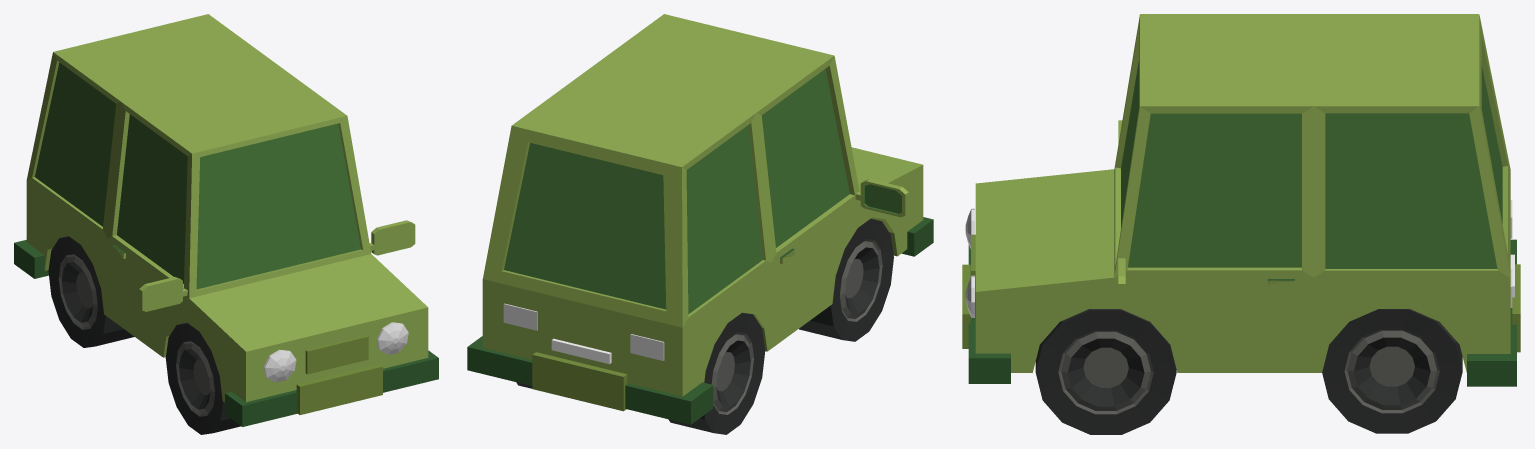
Rendered from mobil hijau.fbx.
The picture shows the model from 3 angles, left to right: view 1: azimuth 30°, elevation 25°; view 2: azimuth 150°, elevation 25°; view 3: azimuth 270°, elevation 25°; orthographic projection. The views are drawn at different scales.
Visible parts, largest first — view 1: lampu depan.001; view 2: lampu depan.001; view 3: lampu depan.001.
Part boxes in pixels (x1=…): lampu depan.001: x1=14, y1=14, x2=438, y2=434; lampu depan.001: x1=467, y1=14, x2=933, y2=434; lampu depan.001: x1=962, y1=14, x2=1520, y2=434.
Bounding box in the file's own units: 1397 × 1289 × 2028.
Materials: 3 (1 with a texture image).
